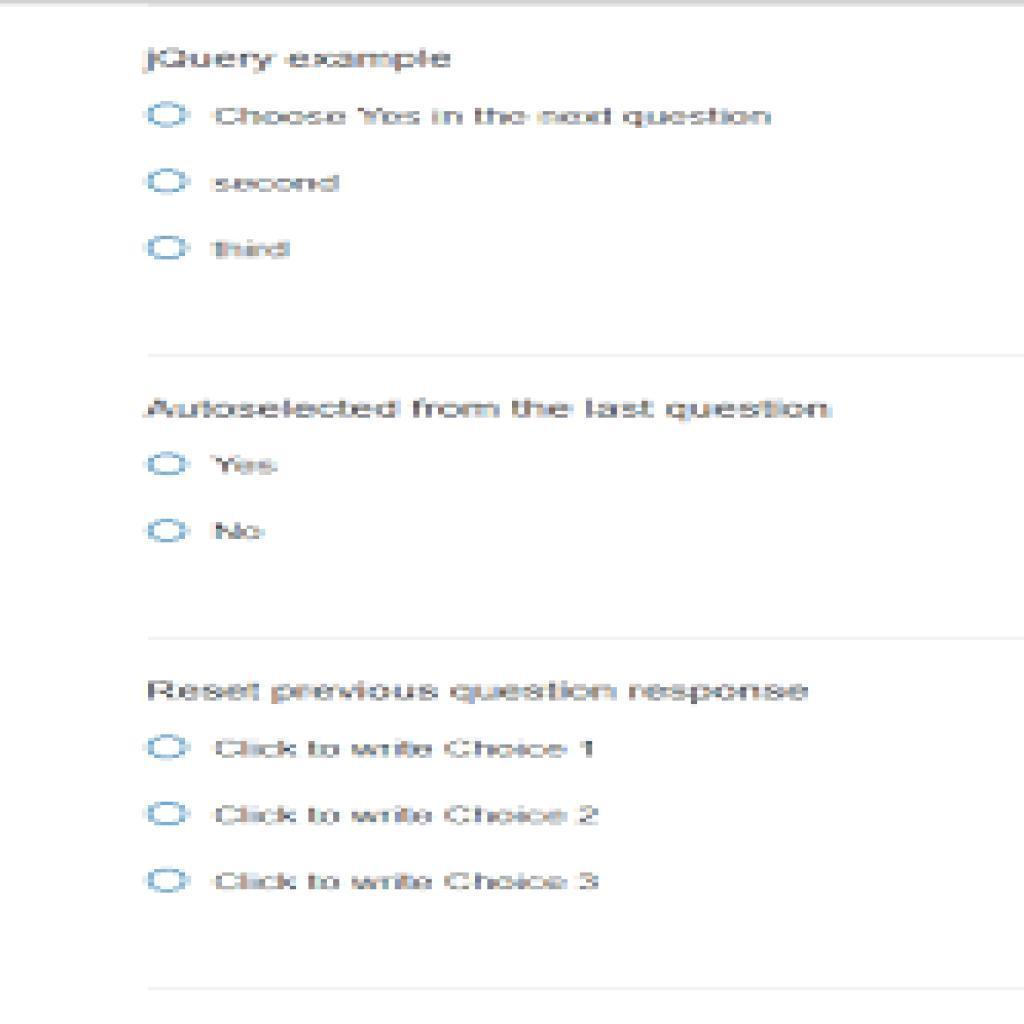radio: (143, 91, 196, 132), (142, 796, 198, 833), (135, 732, 196, 765), (145, 228, 195, 268), (143, 163, 196, 199), (139, 862, 195, 896), (140, 517, 200, 546), (143, 452, 196, 482)
